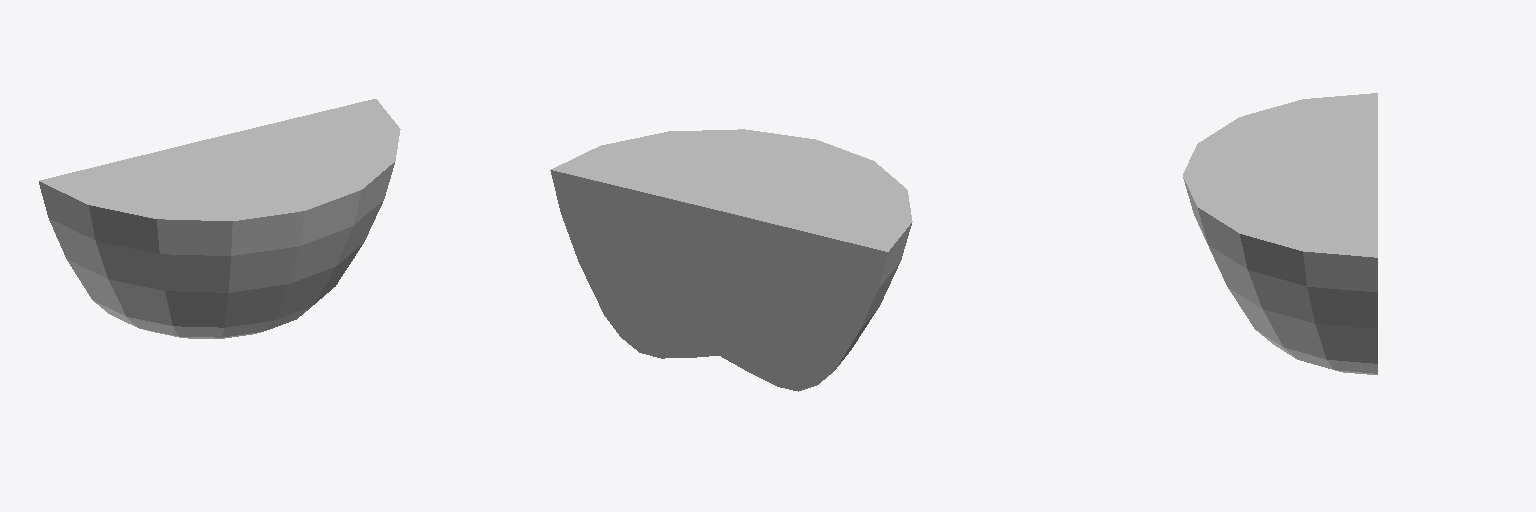
File: Manzana-1_4BB.obj
The picture shows the model from 3 angles: view 1: azimuth 30°, elevation 25°; view 2: azimuth 150°, elevation 25°; view 3: azimuth 270°, elevation 25°; orthographic projection.
Visible parts, largest first — view 1: Manzana-1_44BB_Sphere.014; view 2: Manzana-1_44BB_Sphere.014; view 3: Manzana-1_44BB_Sphere.014.
Part boxes in pixels (x1,y1,x2,y2): Manzana-1_44BB_Sphere.014: (39, 99, 400, 338); Manzana-1_44BB_Sphere.014: (550, 129, 912, 391); Manzana-1_44BB_Sphere.014: (1183, 93, 1377, 374).
Size of the model in its own units: 3.53 by 1.62 by 1.76.